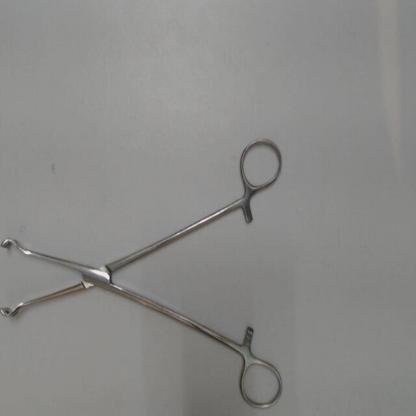8 Babcock Tissue Forceps: (0, 128, 294, 415)
